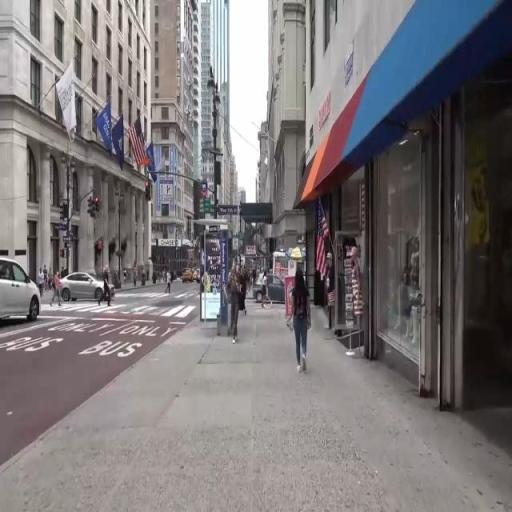person: (290, 269, 314, 375), (228, 268, 243, 347), (99, 267, 113, 312), (241, 260, 249, 317), (54, 272, 64, 308), (263, 268, 270, 312), (166, 268, 173, 294), (253, 264, 259, 290), (39, 268, 44, 295), (50, 268, 54, 295), (44, 262, 48, 287)
